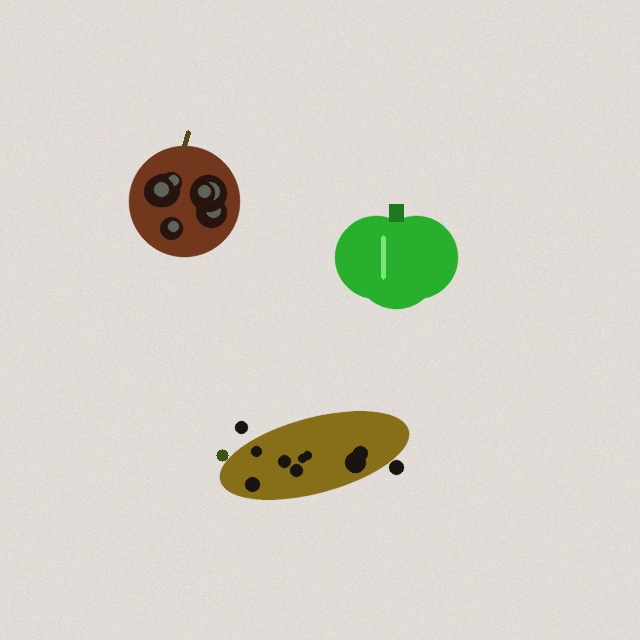Fresh bell pepper: (335, 204, 457, 308)
Rotten apple: (129, 132, 239, 256)
Rotten banana: (213, 409, 415, 501)
